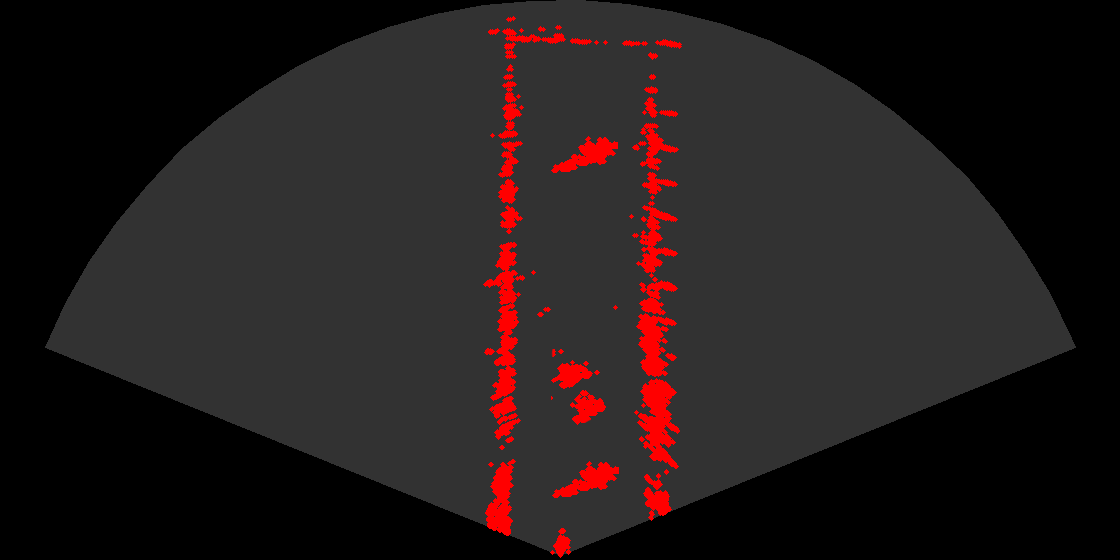cage: (551, 349, 614, 433)
frogman: (551, 455, 619, 502), (550, 130, 618, 177)
